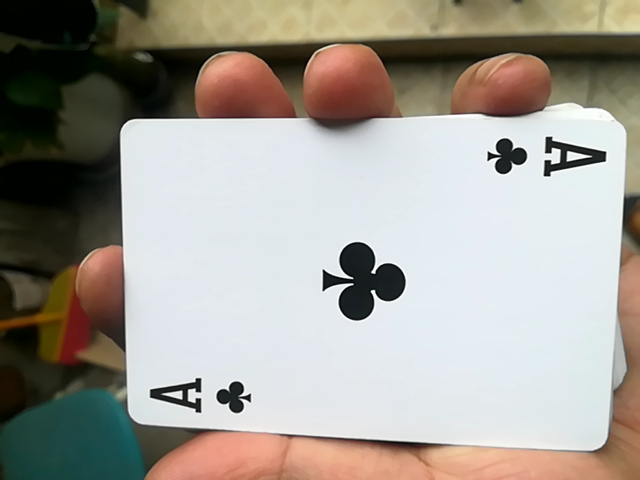mh a: (101, 114, 631, 464)
